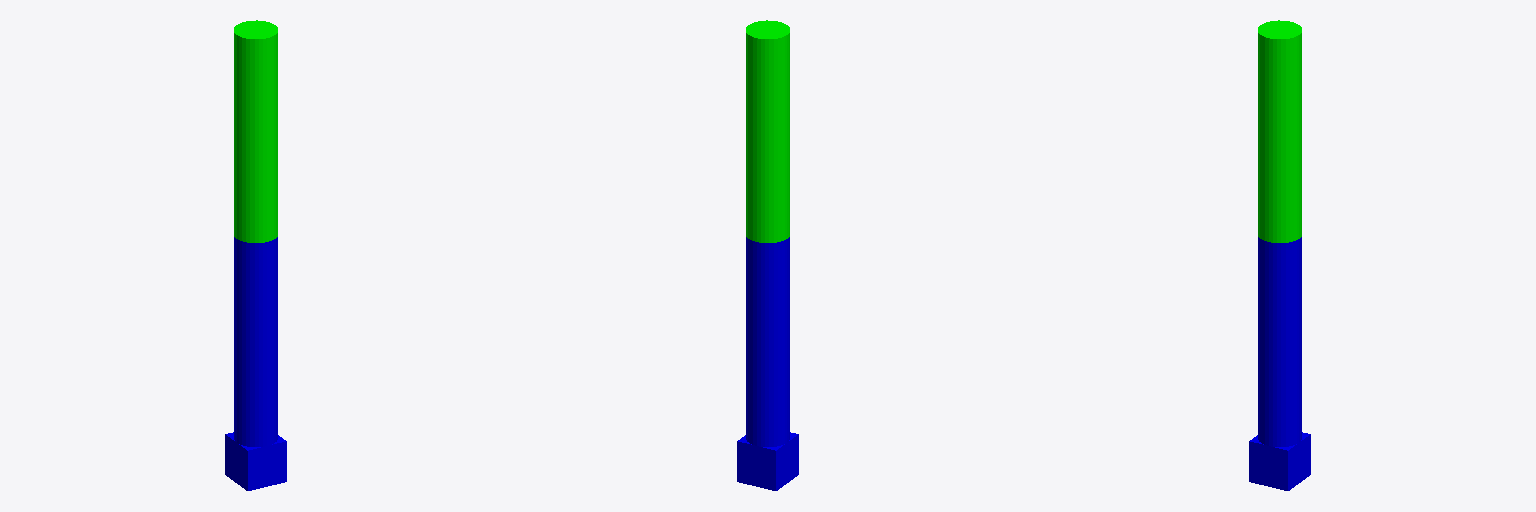
URDF robot description (robotic_arm):
<?xml version="1.0"?>
<robot name="robotic_arm">
  <!-- Base Link -->
  <link name="base_link">
    <inertial>
      <origin xyz="0 0 0" rpy="0 0 0"/>
      <mass value="1.0"/>
      <inertia ixx="0.01" ixy="0.0" ixz="0.0" iyy="0.01" iyz="0.0" izz="0.01"/>
    </inertial>
    <visual>
      <origin xyz="0 0 0" rpy="0 0 0"/>
      <geometry>
        <box size="0.2 0.2 0.2"/>
      </geometry>
      <material name="gray">
        <color rgba="0 0 1 1"/>
      </material>
    </visual>
    <collision>
      <origin xyz="0 0 0" rpy="0 0 0"/>
      <geometry>
        <box size="0.2 0.2 0.2"/>
      </geometry>
    </collision>
  </link>

  <!-- Joint from base_link to link1 -->
  <joint name="base_to_link1" type="revolute">
    <parent link="base_link"/>
    <child link="link1"/>
    <origin xyz="0 0 0.1" rpy="0 0 0"/>
    <axis xyz="0 0 1"/>
    <limit effort="10" lower="-3.14" upper="3.14" velocity="1.0"/>
  </joint>

  <!-- Link 1 -->
  <link name="link1">
    <inertial>
      <origin xyz="0 0 0.5" rpy="0 0 0"/>
      <mass value="1.0"/>
      <inertia ixx="0.01" ixy="0.0" ixz="0.0" iyy="0.01" iyz="0.0" izz="0.01"/>
    </inertial>
    <visual>
      <origin xyz="0 0 0.5" rpy="0 0 0"/>
      <geometry>
        <cylinder length="1.0" radius="0.1"/>
      </geometry>
      <material name="blue">
        <color rgba="0 0 1 1"/>
      </material>
    </visual>
    <collision>
      <origin xyz="0 0 0.5" rpy="0 0 0"/>
      <geometry>
        <cylinder length="1.0" radius="0.1"/>
      </geometry>
    </collision>
  </link>

  <!-- Joint from link1 to link2 -->
  <joint name="link1_to_link2" type="revolute">
    <parent link="link1"/>
    <child link="link2"/>
    <origin xyz="0 0 1.0" rpy="0 0 0"/>
    <axis xyz="0 1 0"/>
    <limit effort="10" lower="-3.14" upper="3.14" velocity="1.0"/>
  </joint>

  <!-- Link 2 -->
  <link name="link2">
    <inertial>
      <origin xyz="0 0 0.5" rpy="0 0 0"/>
      <mass value="1.0"/>
      <inertia ixx="0.01" ixy="0.0" ixz="0.0" iyy="0.01" iyz="0.0" izz="0.01"/>
    </inertial>
    <visual>
      <origin xyz="0 0 0.5" rpy="0 0 0"/>
      <geometry>
        <cylinder length="1.0" radius="0.1"/>
      </geometry>
      <material name="green">
        <color rgba="0 1 0 1"/>
      </material>
    </visual>
    <collision>
      <origin xyz="0 0 0.5" rpy="0 0 0"/>
      <geometry>
        <cylinder length="1.0" radius="0.1"/>
      </geometry>
    </collision>
  </link>
</robot>

--- Facts derived from the render (not from the file) ---
3 views of the same robot in one strip: view 1: azimuth 30°, elevation 25°; view 2: azimuth 150°, elevation 25°; view 3: azimuth 330°, elevation 25° (orthographic).
Model robotic_arm with 3 links and 2 joints (2 revolute), rooted at base_link, posed every joint at zero.
Links seen in each view (by area): view 1: link2, link1, base_link; view 2: link2, link1, base_link; view 3: link2, link1, base_link.
Boxes of the visible links, x1,y1,x2,y2 form: link2: (234,20,277,242); link1: (234,237,277,446); base_link: (225,432,286,490); link2: (746,20,789,242); link1: (746,237,789,446); base_link: (737,432,798,490); link2: (1258,20,1301,242); link1: (1258,237,1301,446); base_link: (1249,432,1310,490).
Size in the robot's own frame: 0.2 by 0.2 by 2.2 metres.
Geometry: primitives only (box / cylinder / sphere), no mesh files.